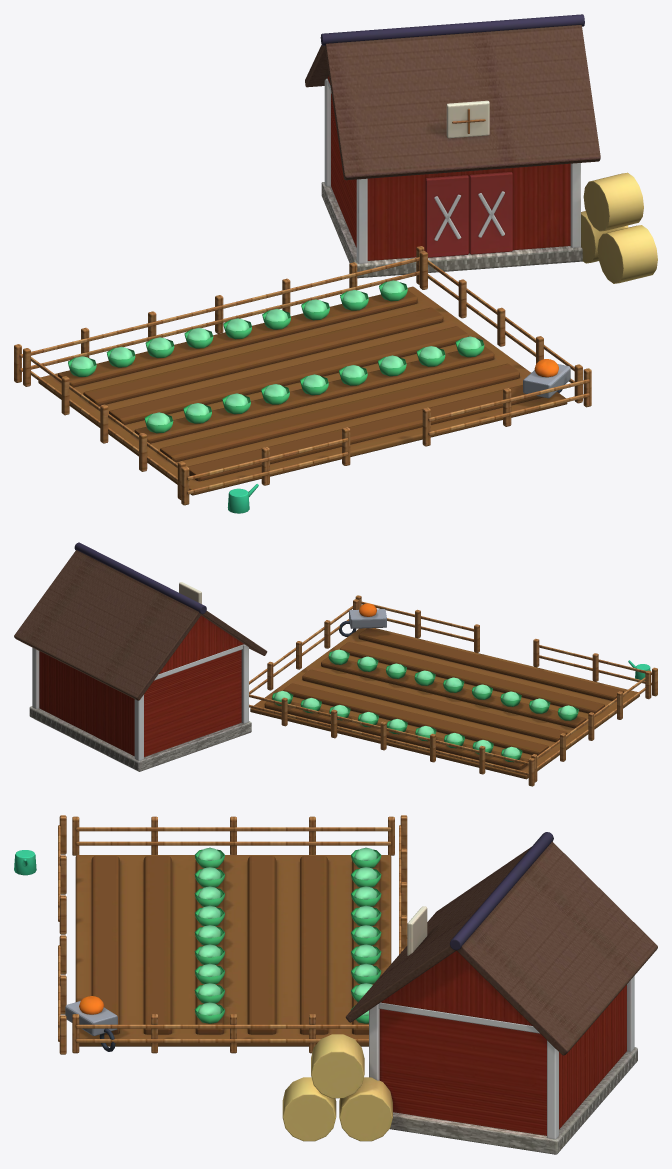
The model's file is farm.glb.
3 views of the same model, one above another, from view 1: azimuth 30°, elevation 25°; view 2: azimuth 150°, elevation 25°; view 3: azimuth 270°, elevation 25° (orthographic). The views are drawn at different scales.
Visible parts, largest first — view 1: Mesh_0; view 2: Mesh_0; view 3: Mesh_0.
Part boxes in pixels (bbox=[...]): Mesh_0: bbox=[14, 14, 657, 513]; Mesh_0: bbox=[14, 542, 657, 786]; Mesh_0: bbox=[14, 815, 657, 1154].
Size of the model in its own units: 23.33 by 7.3 by 20.41.
Materials: 1 (1 with a texture image).
